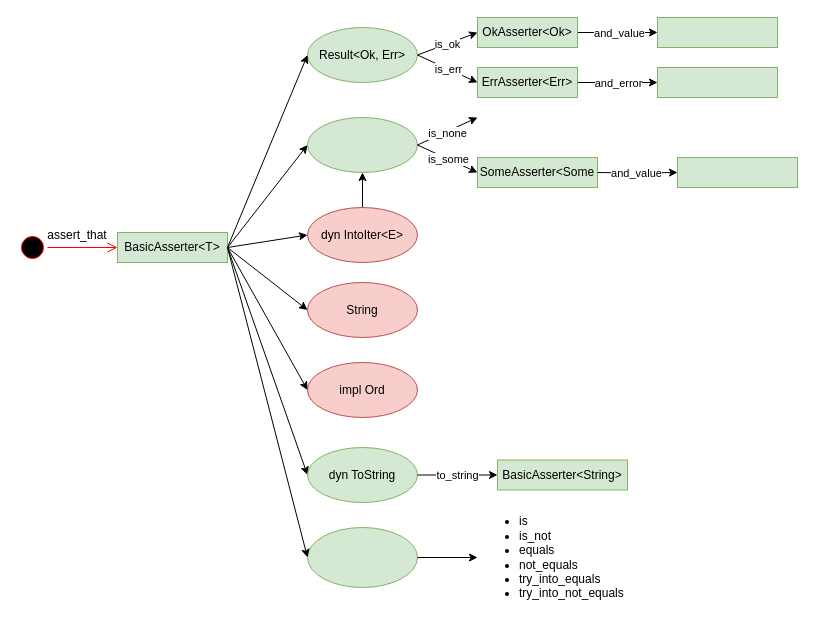
This 815x640 diagram has some shape labels left out. The centre of each missing label's shape, as x and y in pixels:
"(any type)" belongs at point (362, 557).
"BasicAsserter<Err>" belongs at point (717, 82).
"BasicAsserter<Ok>" belongs at point (717, 32).
"BasicAsserter<Some>" belongs at point (737, 172).
"Option<Some>" belongs at point (362, 144).
